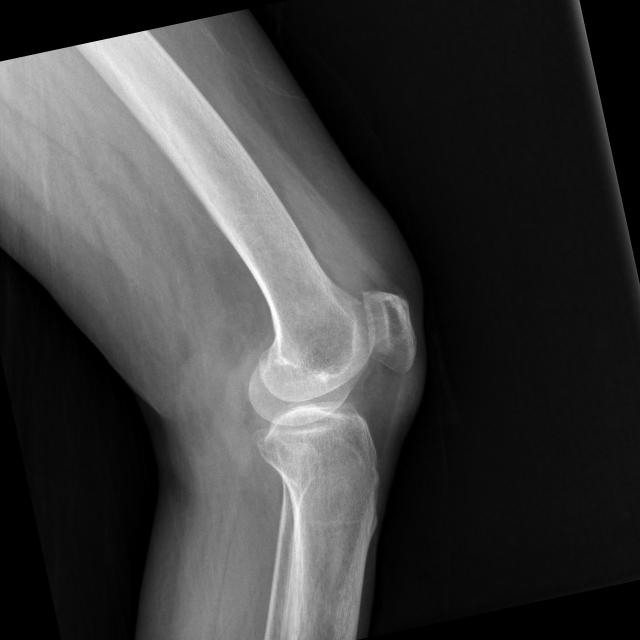Knee: (219, 276, 445, 495)
